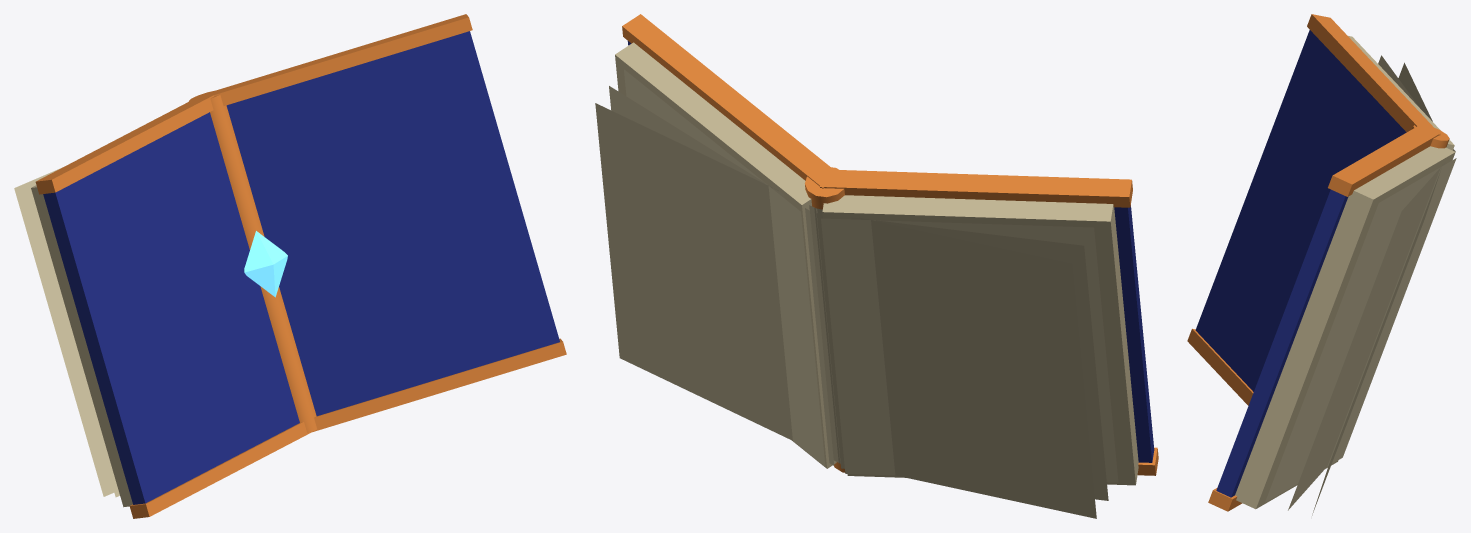
The model's file is back_eqen3.glb.
The picture shows the model from 3 angles, left to right: view 1: azimuth 30°, elevation 25°; view 2: azimuth 150°, elevation 25°; view 3: azimuth 270°, elevation 25°; orthographic projection. The views are drawn at different scales.
Bounding box in the file's own units: 2.03 × 1.5 × 0.9664.
